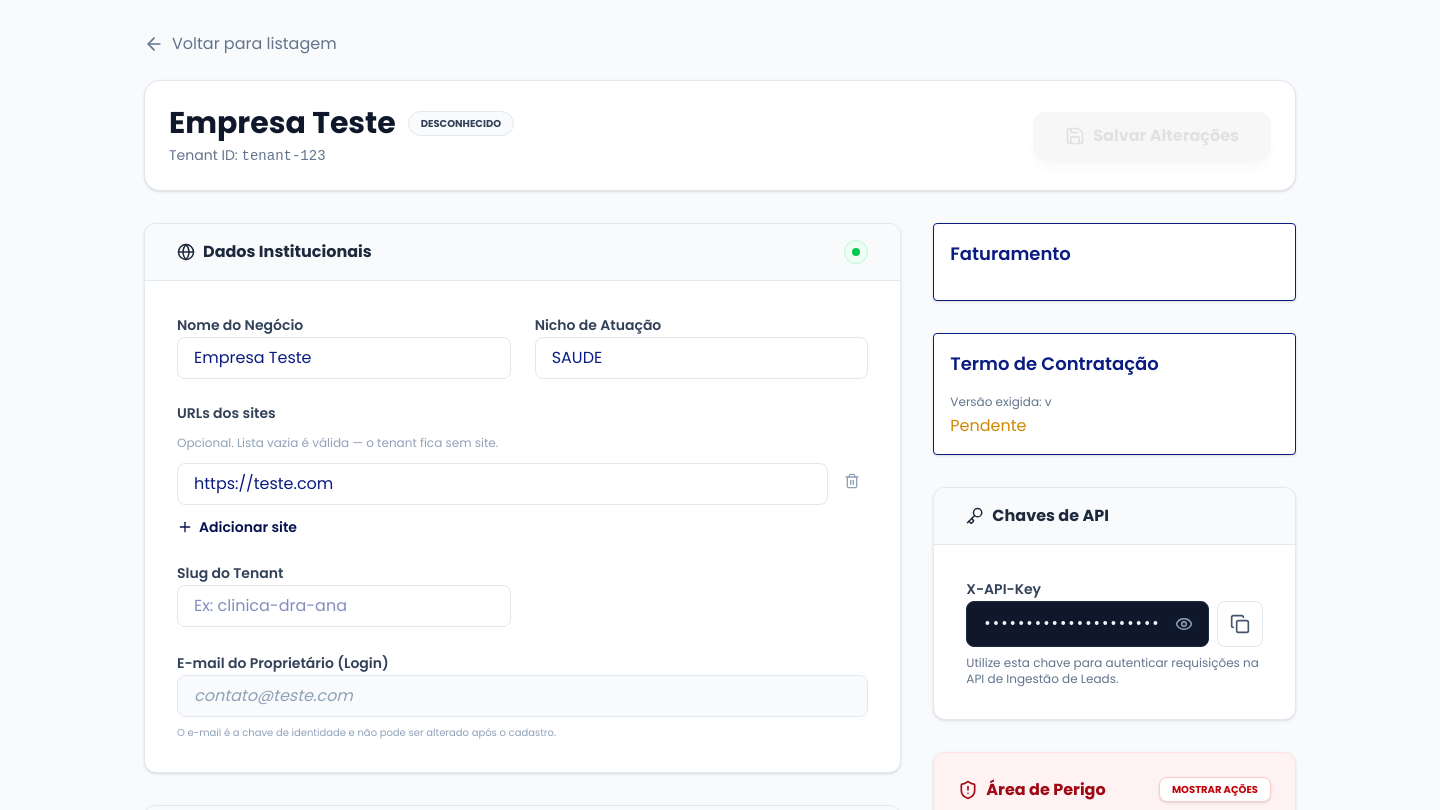
Scenario: TenantDetailsPage - Refactor Requirements › deve exibir a API Key ofuscada e permitir revelação
The width and height of the screenshot is (1440, 810).
Check: the password field showing "up_••••" is shown, box [966,601,1209,647]
Note: Clica no botão de revelar (olhinho)
Click the button named "revelar".
click(1184, 624)  # box [1171,611,1197,637]
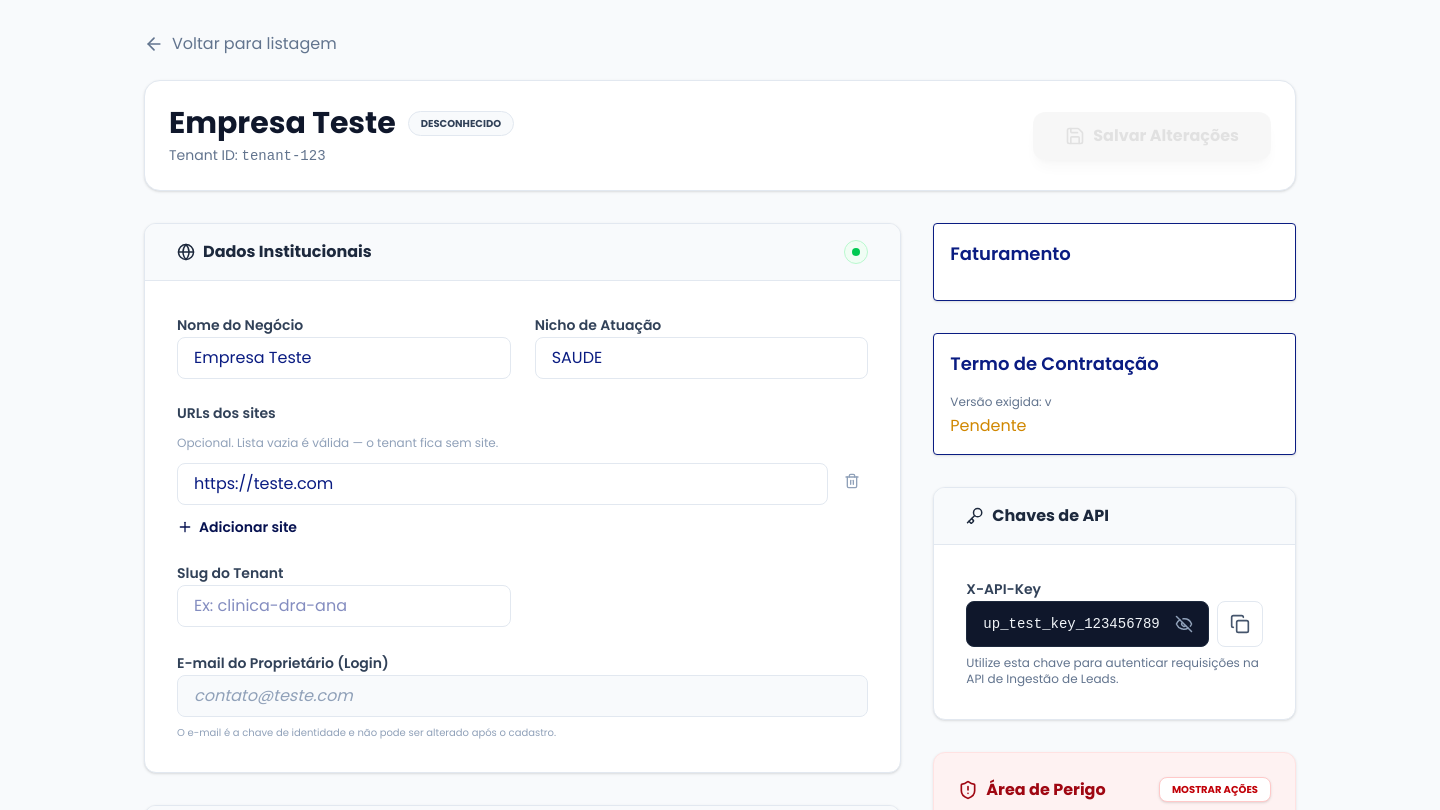
Check: the field showing "up_test_key_123456789" below "X-API-Key" is shown, box [966,601,1209,647]
